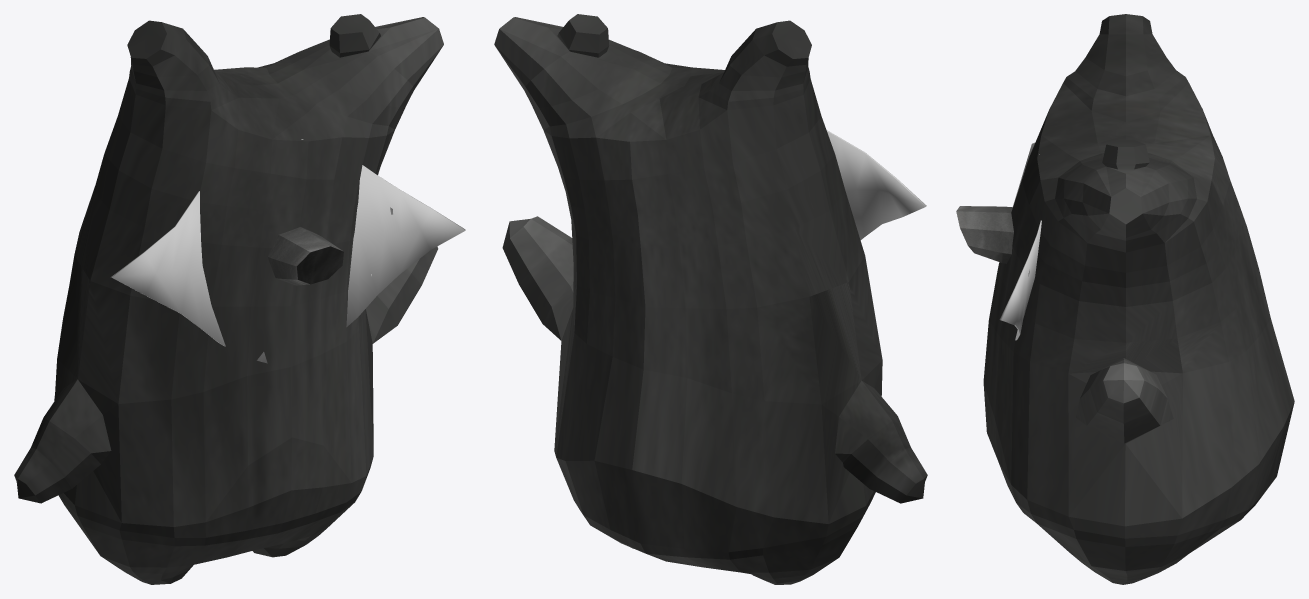
File: frame_0065.obj
The picture shows the model from 3 angles, left to right: view 1: azimuth 30°, elevation 25°; view 2: azimuth 150°, elevation 25°; view 3: azimuth 270°, elevation 25°; orthographic projection. The views are drawn at different scales.
Visible parts, largest first — view 1: korok, leaf, nose; view 2: korok, leaf; view 3: korok, nose, leaf.
Boxes of the visible parts, left/top/right/bottom form: korok: left=14, top=14, right=443, bottom=584; leaf: left=111, top=139, right=465, bottom=363; nose: left=268, top=227, right=343, bottom=285; korok: left=494, top=14, right=927, bottom=584; leaf: left=826, top=130, right=926, bottom=239; korok: left=983, top=14, right=1294, bottom=584; nose: left=956, top=206, right=1013, bottom=263; leaf: left=999, top=142, right=1041, bottom=340.
Size of the model in its own units: 1.7 by 2.14 by 1.27.
